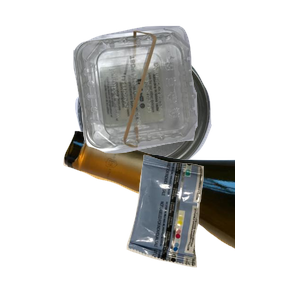glass: (60, 128, 300, 300)
metal: (73, 42, 277, 212)
plastic: (71, 23, 300, 169)
trash: (124, 152, 300, 300)
